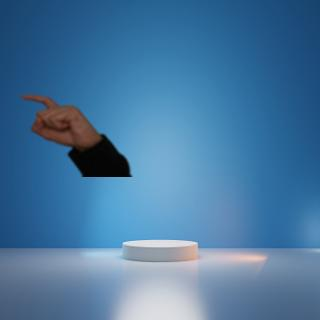WHY: (14, 89, 100, 149)
